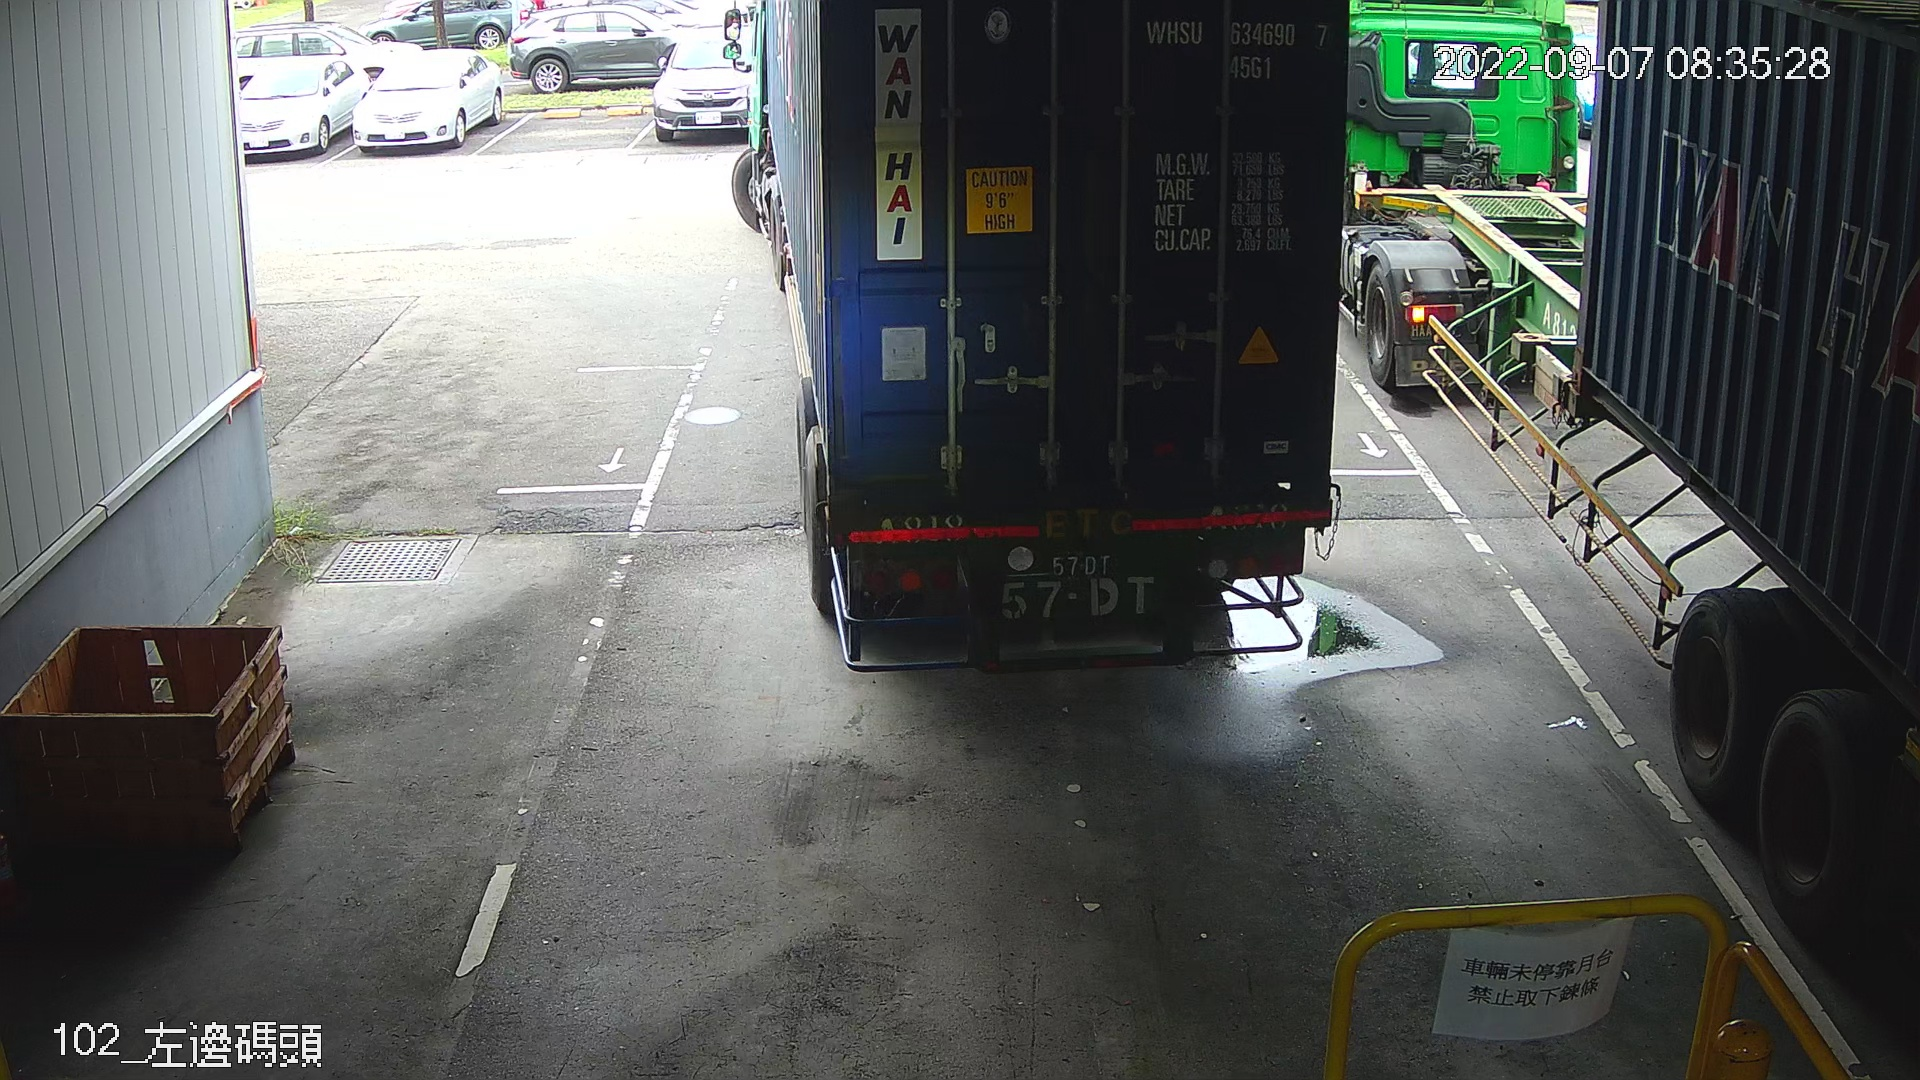container: (1138, 11, 1338, 86)
